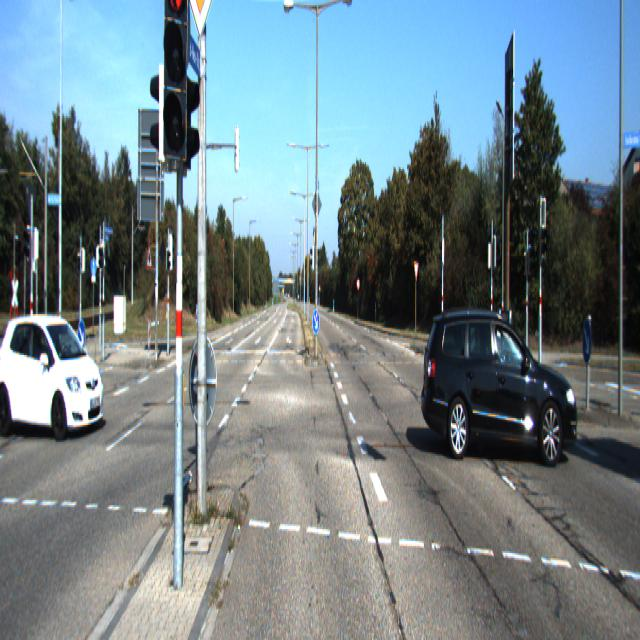Car: (422, 303, 582, 468), (0, 304, 109, 435)
